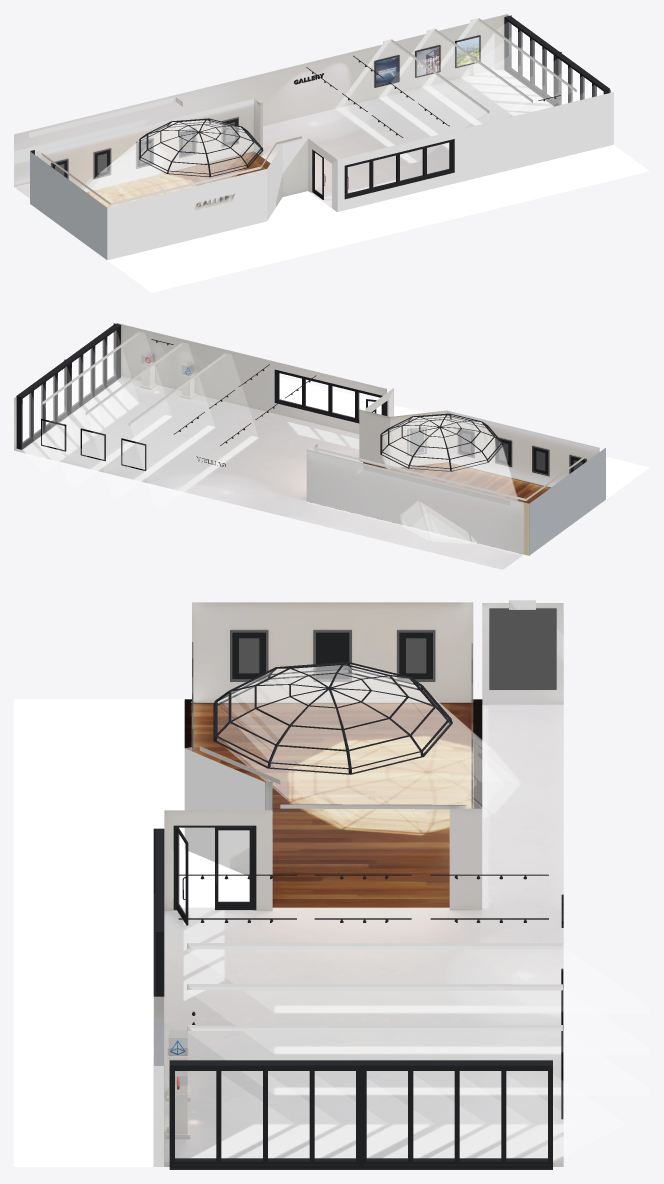
The model's file is art-gallery27.glb.
The picture shows the model from 3 angles, top to bottom: view 1: azimuth 30°, elevation 25°; view 2: azimuth 150°, elevation 25°; view 3: azimuth 270°, elevation 25°; orthographic projection. The views are drawn at different scales.
Parts seen in each view (by area): view 1: ParedesPrincipais, fake_volume.001, Paredes, Chao_entrada.001, Chao_entrada, Metais, Chao_madeira, Sphere.002, Todos os quadros, p_DNA Project, Quadros_entrada, p_Real Estate Project (+1 smaller); view 2: fake_volume.001, Chao_entrada, ParedesPrincipais, Paredes, Metais, Chao_entrada.001, Chao_madeira, Sphere.002, Todos os quadros, Quadros_entrada; view 3: fake_volume.001, Chao_entrada, Chao_entrada.001, Chao_madeira, Paredes, Metais, ParedesPrincipais, Todos os quadros, Sphere.002, p_Threejs Favorites.
Boxes of the visible parts, left/top/right/bottom form: ParedesPrincipais: left=14, top=14, right=613, bottom=211; fake_volume.001: left=84, top=19, right=602, bottom=207; Paredes: left=30, top=99, right=336, bottom=260; Chao_entrada.001: left=107, top=144, right=649, bottom=292; Chao_entrada: left=14, top=67, right=553, bottom=207; Metais: left=306, top=15, right=609, bottom=199; Chao_madeira: left=86, top=151, right=270, bottom=207; Sphere.002: left=139, top=118, right=263, bottom=177; Todos os quadros: left=51, top=117, right=238, bottom=179; p_DNA Project: left=376, top=56, right=398, bottom=86; Quadros_entrada: left=374, top=35, right=480, bottom=87; p_Real Estate Project: left=416, top=47, right=439, bottom=76; fake_volume.001: left=22, top=331, right=518, bottom=543; Chao_entrada: left=14, top=376, right=523, bottom=569; ParedesPrincipais: left=14, top=323, right=529, bottom=555; Paredes: left=311, top=388, right=605, bottom=555; Metais: left=16, top=323, right=387, bottom=449; Chao_entrada.001: left=279, top=377, right=649, bottom=499; Chao_madeira: left=363, top=462, right=550, bottom=503; Sphere.002: left=380, top=413, right=503, bottom=471; Todos os quadros: left=407, top=427, right=586, bottom=476; Quadros_entrada: left=41, top=418, right=146, bottom=470; fake_volume.001: left=188, top=665, right=649, bottom=1161; Chao_entrada: left=153, top=704, right=563, bottom=1166; Chao_entrada.001: left=14, top=699, right=249, bottom=1166; Chao_madeira: left=184, top=699, right=482, bottom=907; Paredes: left=184, top=602, right=473, bottom=876; Metais: left=153, top=825, right=552, bottom=1169; ParedesPrincipais: left=153, top=600, right=563, bottom=1166; Todos os quadros: left=192, top=608, right=556, bottom=808; Sphere.002: left=213, top=661, right=452, bottom=774; p_Threejs Favorites: left=316, top=632, right=349, bottom=678.
Bounding box in the file's own units: 62.24 × 8.29 × 35.64.
Materials: 19 (8 with a texture image).
